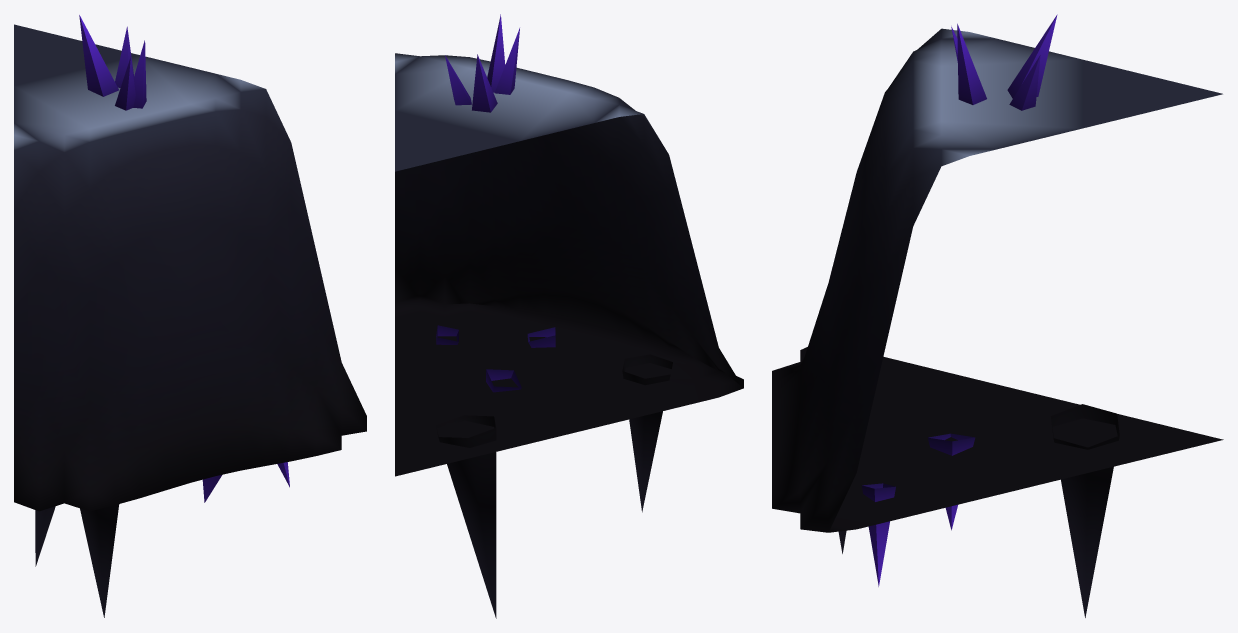
The model's file is MODULE_HOLLOW_LINE.fbx.
3 views of the same model, side by side, from view 1: azimuth 30°, elevation 25°; view 2: azimuth 150°, elevation 25°; view 3: azimuth 270°, elevation 25° (orthographic). The views are drawn at different scales.
Visible parts, largest first — view 1: MODULE_HOLLOW_LINE__export, MODULE_HOLLOW_LINE_DECOR__export; view 2: MODULE_HOLLOW_LINE__export, MODULE_HOLLOW_LINE_DECOR__export; view 3: MODULE_HOLLOW_LINE__export, MODULE_HOLLOW_LINE_DECOR__export.
Boxes of the visible parts, box(x1,y1,x2,y2) form: MODULE_HOLLOW_LINE__export: box(14, 24, 366, 511); MODULE_HOLLOW_LINE_DECOR__export: box(35, 15, 289, 617); MODULE_HOLLOW_LINE__export: box(395, 53, 743, 476); MODULE_HOLLOW_LINE_DECOR__export: box(436, 14, 672, 618); MODULE_HOLLOW_LINE__export: box(772, 28, 1223, 532); MODULE_HOLLOW_LINE_DECOR__export: box(838, 14, 1119, 617).
Bounding box in the file's own units: 58.33 × 88.09 × 57.74.
